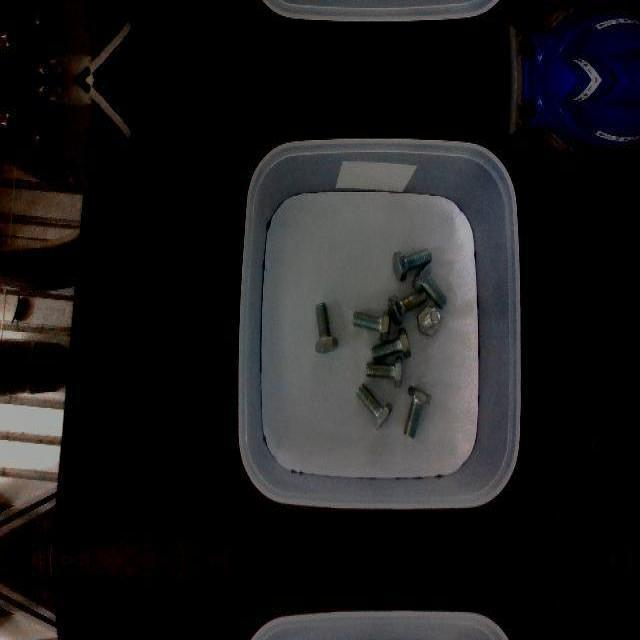screw: (412, 263, 449, 309), (356, 382, 393, 428), (403, 385, 431, 437), (393, 247, 434, 281), (372, 326, 411, 360), (388, 289, 426, 323), (314, 301, 338, 353), (354, 310, 391, 342), (365, 355, 403, 385), (417, 305, 441, 335)
